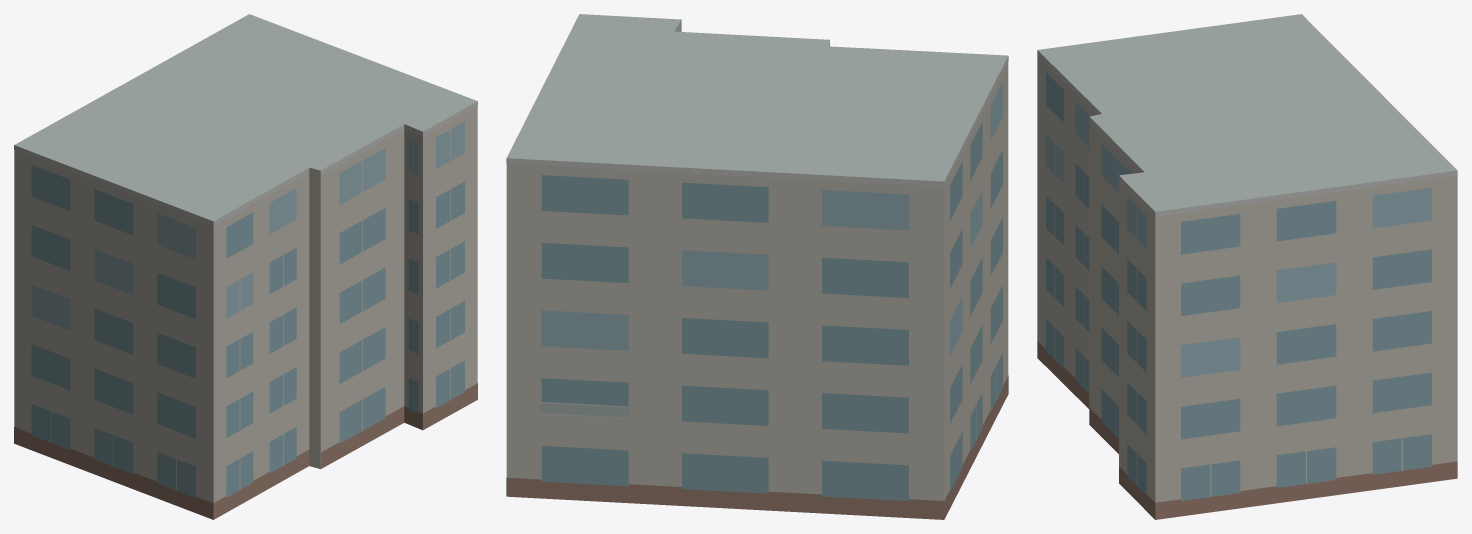
The model's file is survey-upis-32533360.glb.
3 renders of one model, left to right at view 1: azimuth 30°, elevation 25°; view 2: azimuth 150°, elevation 25°; view 3: azimuth 270°, elevation 25°, orthographic. The views are drawn at different scales.
Visible parts, largest first — view 1: survey-upis-32533360.tmp; view 2: survey-upis-32533360.tmp; view 3: survey-upis-32533360.tmp.
Boxes of the visible parts, box(x1,y1,x2,y2) form: survey-upis-32533360.tmp: box(14, 14, 477, 519); survey-upis-32533360.tmp: box(506, 14, 1008, 519); survey-upis-32533360.tmp: box(1037, 14, 1457, 519).
Bounding box in the file's own units: 21.07 × 15.3 × 18.92.
